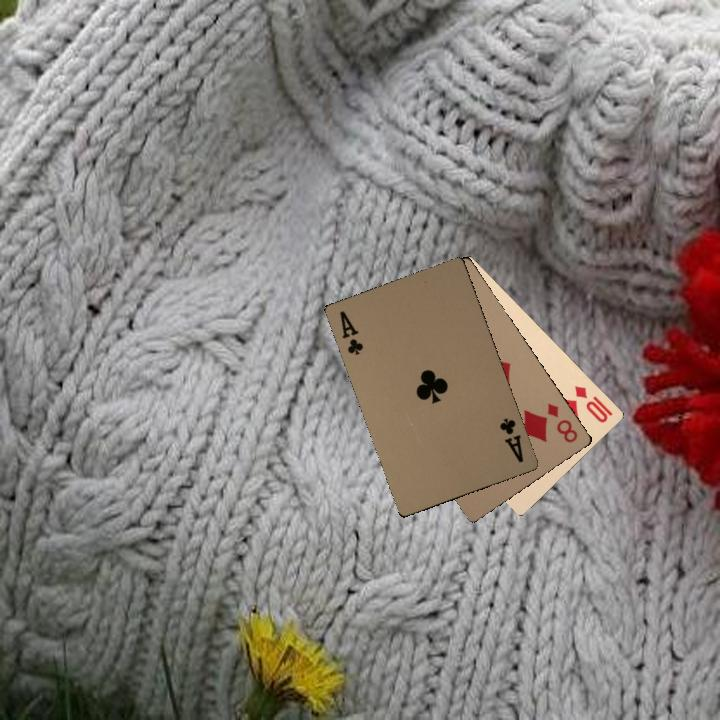10d: (570, 381, 615, 425)
8d: (543, 399, 580, 445)
Ac: (495, 414, 526, 465), (335, 307, 366, 357)
